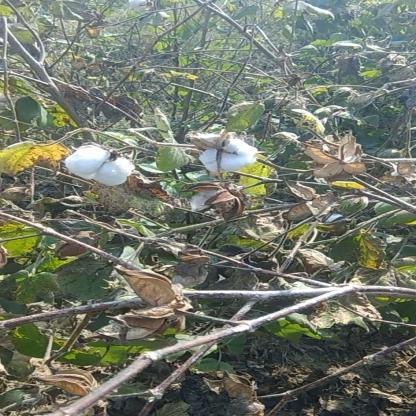cotton_ready: (36, 131, 144, 197), (178, 128, 274, 178)
